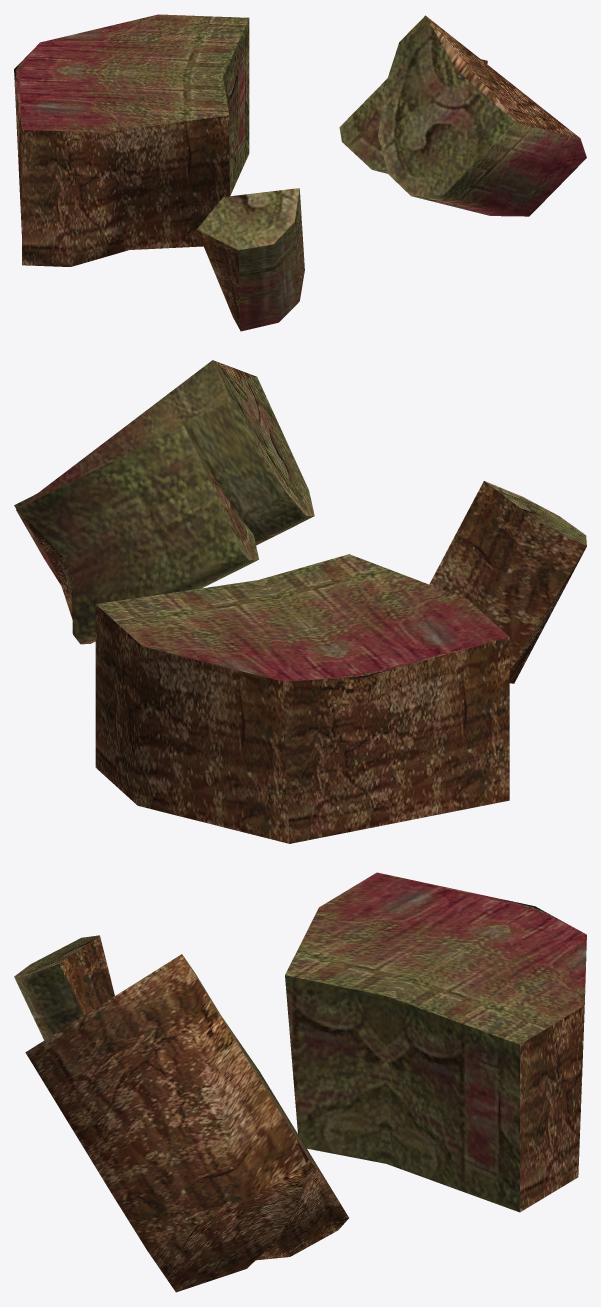
File: fortressa_wall_bk02.glb
3 views of the same model, one above another, from view 1: azimuth 30°, elevation 25°; view 2: azimuth 150°, elevation 25°; view 3: azimuth 270°, elevation 25° (orthographic). The views are drawn at different scales.
Parts seen in each view (by area): view 1: fortressA_wall_bk02; view 2: fortressA_wall_bk02; view 3: fortressA_wall_bk02.
Boxes of the visible parts, <box> form: fortressA_wall_bk02: <box>14,14,586,331</box>; fortressA_wall_bk02: <box>14,360,586,843</box>; fortressA_wall_bk02: <box>14,872,586,1292</box>.
Bounding box in the file's own units: 4.93 × 2.39 × 4.18.
2 materials, 2 textured.
